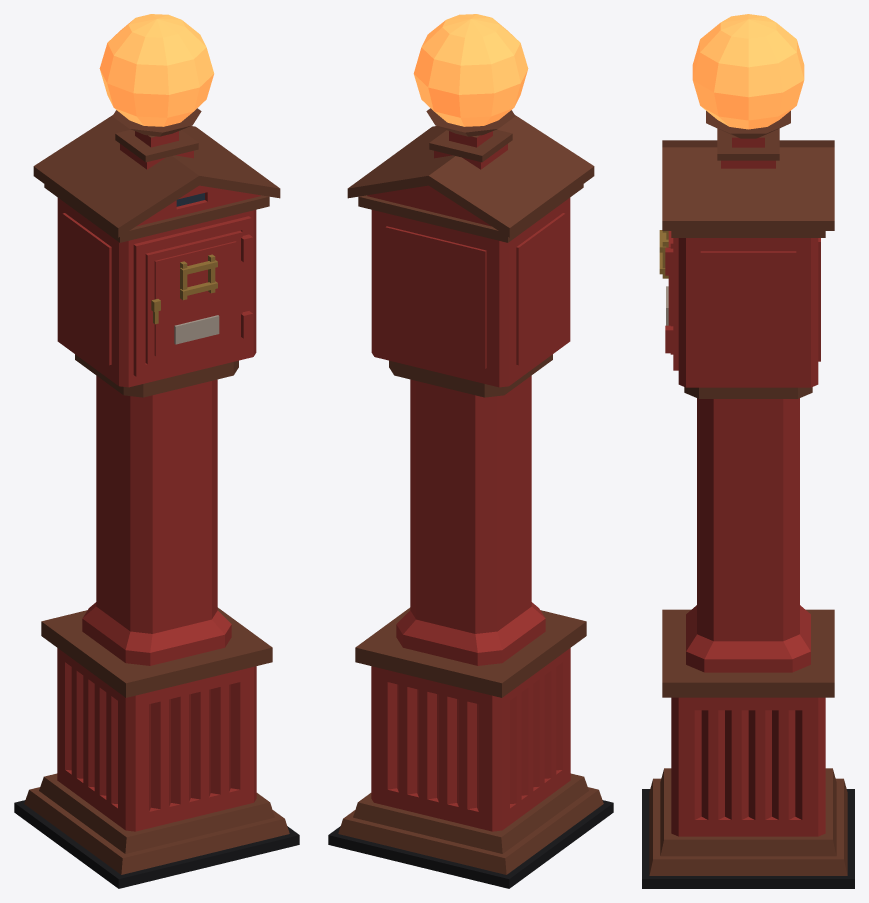
Rendered from fire-alarm-call-box-56d332.glb.
The picture shows the model from 3 angles, left to right: view 1: azimuth 30°, elevation 25°; view 2: azimuth 150°, elevation 25°; view 3: azimuth 270°, elevation 25°; orthographic projection.
Parts seen in each view (by area): view 1: body, door-panel, globe-glass; view 2: body, globe-glass; view 3: body, globe-glass, door-panel.
Part boxes in pixels (<box>): body: <box>14,108,299,888</box>; door-panel: <box>145,230,252,364</box>; globe-glass: <box>99,14,214,126</box>; body: <box>328,108,613,888</box>; globe-glass: <box>413,14,528,126</box>; body: <box>642,111,854,888</box>; globe-glass: <box>692,14,804,129</box>; door-panel: <box>659,230,673,354</box>.
Size of the model in its own units: 0.58 by 2.48 by 0.58.
